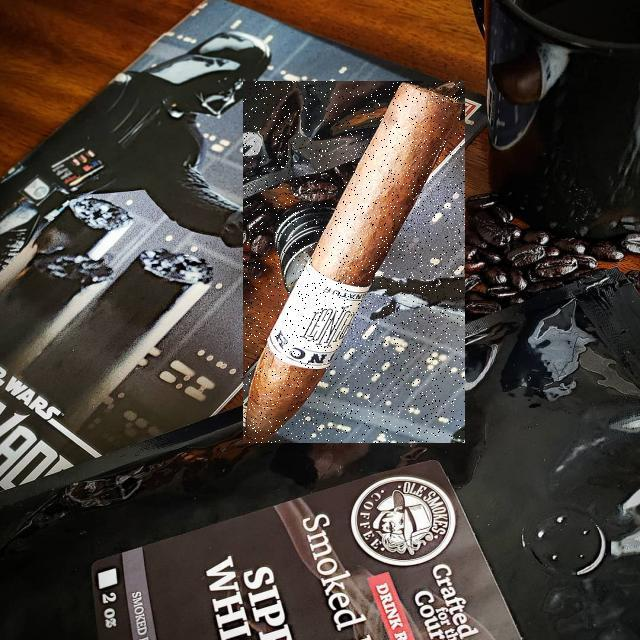smoking: (243, 81, 465, 443)
